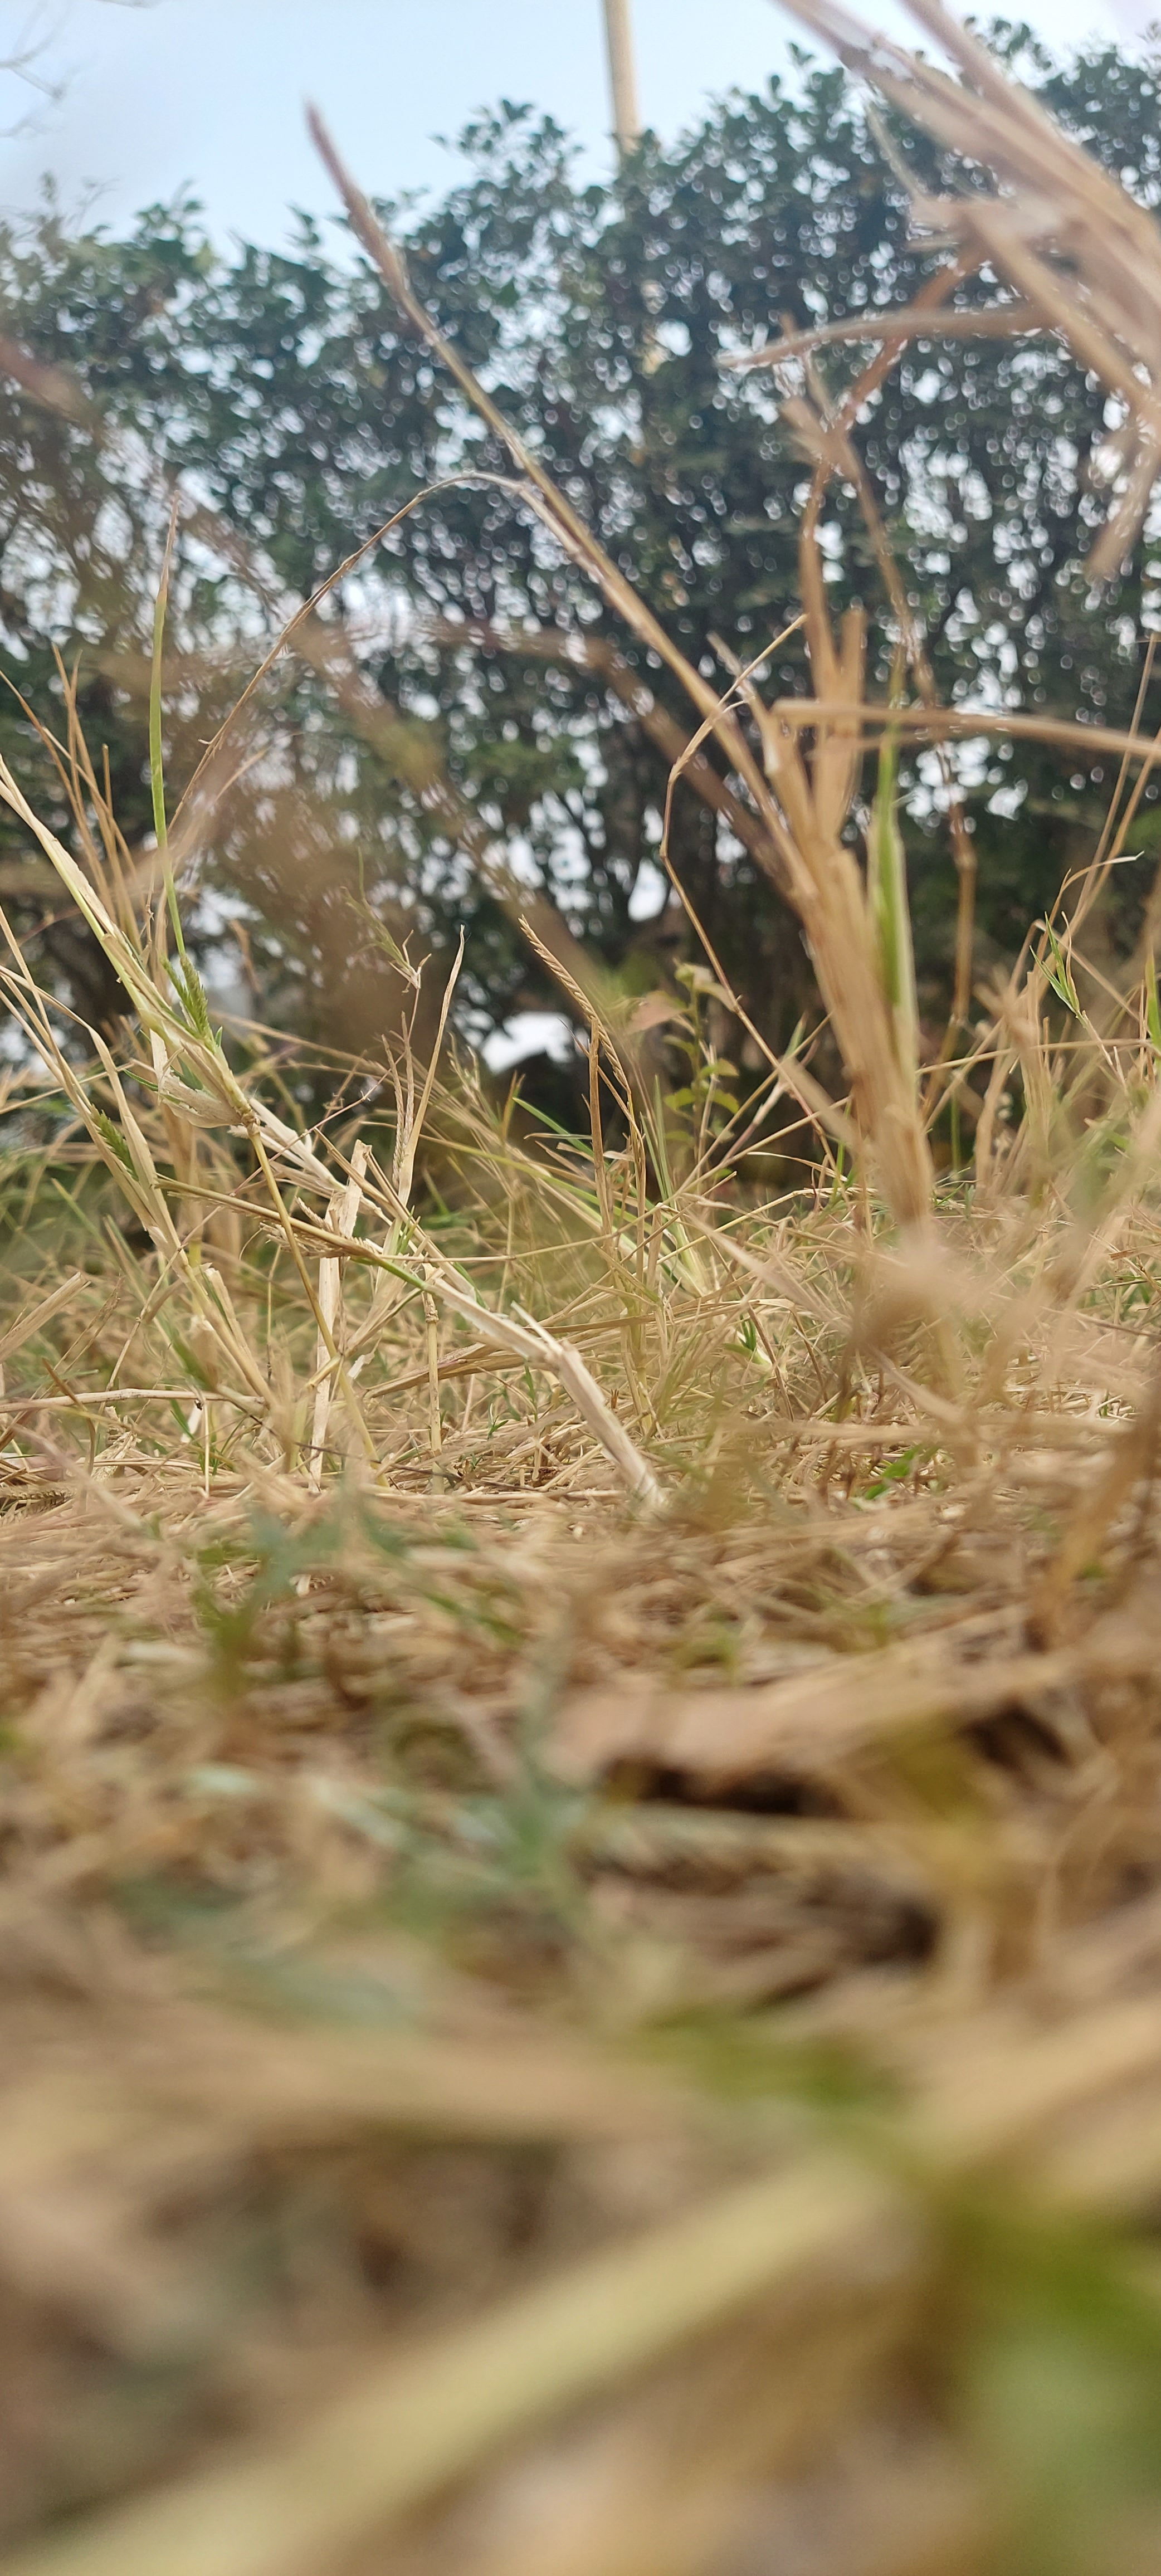Grass: (3, 866, 1161, 2576)
